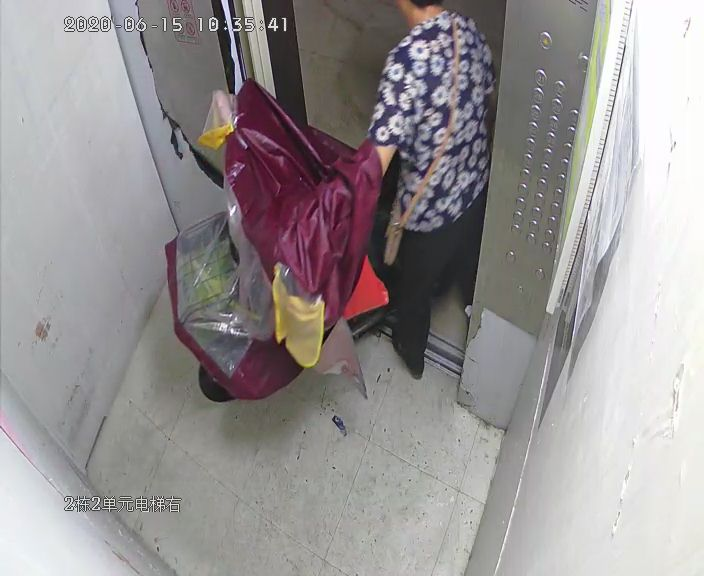Electric-bicycle: (174, 86, 371, 399)
